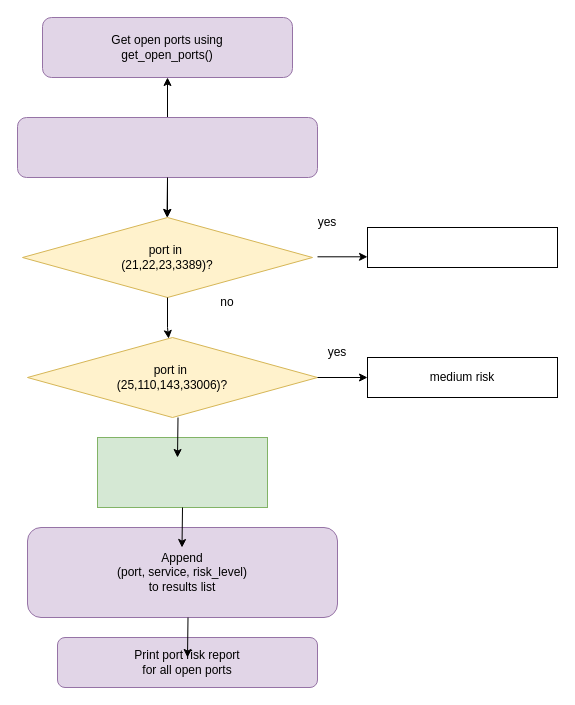
This 575x705 diagram has some shape labels left out. The shapes that lost their labels are listed below. From the top down, each one's centre as x and y in pixels, then its label:
At (167,147): "Loop through each open port".
At (462,247): "high risk".
At (182,472): "else : LOW RISK".
